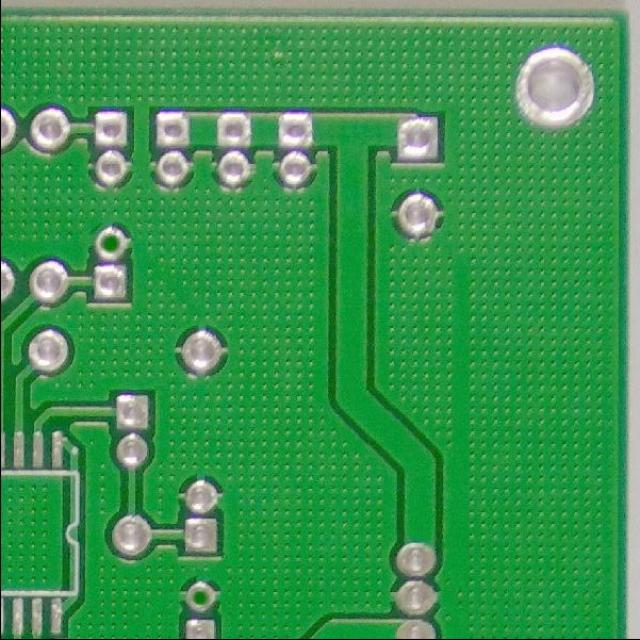missing_hole: (91, 224, 133, 261), (181, 582, 219, 614)
